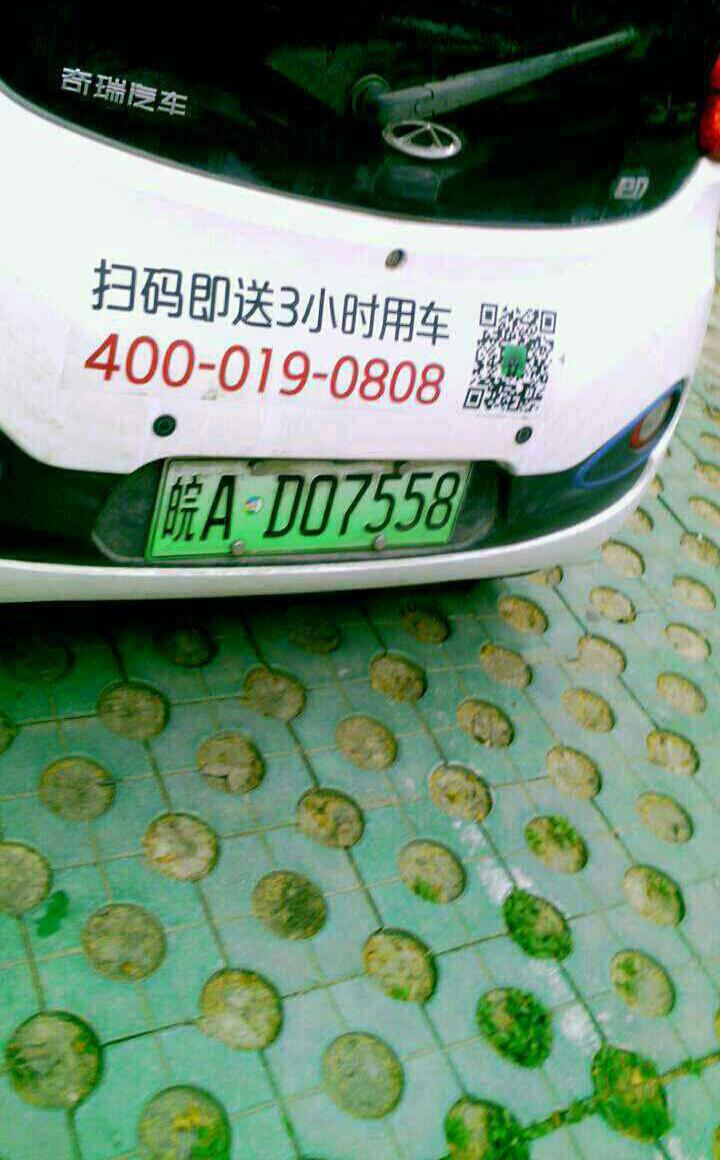car_id: (146, 460, 476, 555)
